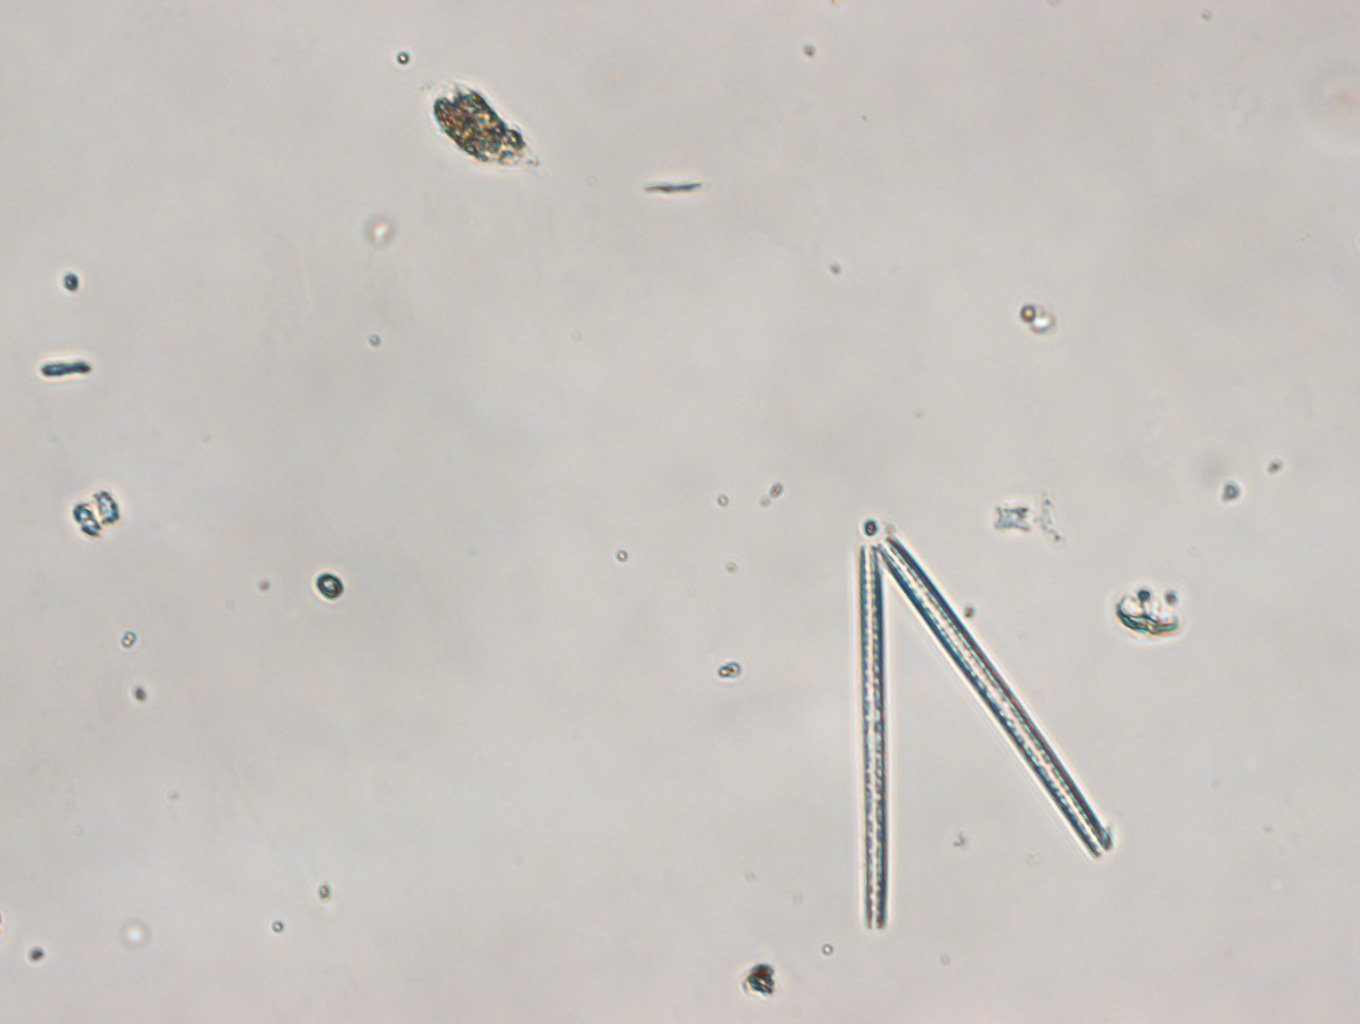thalassionema frauenfeldii: (848, 534, 1123, 929)
